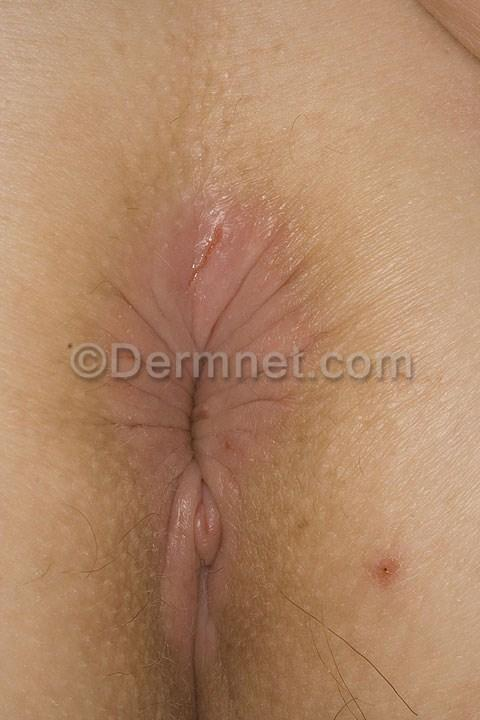Eczema: (162, 179, 280, 305), (349, 547, 428, 612)
